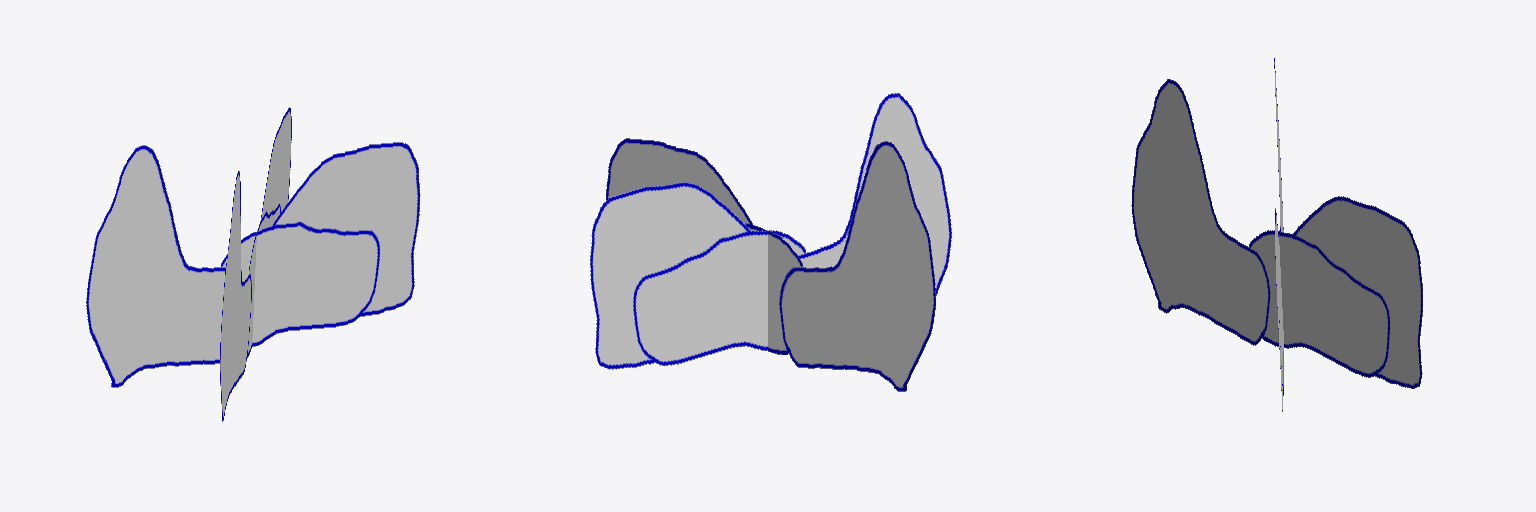
3 renders of one model, left to right at view 1: azimuth 30°, elevation 25°; view 2: azimuth 150°, elevation 25°; view 3: azimuth 270°, elevation 25°, orthographic.
Visible parts, largest first — view 1: pPlane2, pasted__pPlane2 group1; view 2: pasted__pPlane2 group1, pPlane2; view 3: pasted__pPlane2 group1, pPlane2.
Part boxes in pixels (left/top/right/bottom): pPlane2: left=86, top=142, right=420, bottom=387; pasted__pPlane2 group1: left=220, top=107, right=291, bottom=421; pasted__pPlane2 group1: left=590, top=93, right=951, bottom=369; pPlane2: left=606, top=138, right=935, bottom=391; pasted__pPlane2 group1: left=1131, top=79, right=1422, bottom=388; pPlane2: left=1274, top=58, right=1283, bottom=411.
Bounding box in the file's own units: 3.24 × 2.47 × 2.42.
Materials: 1 (1 with a texture image).